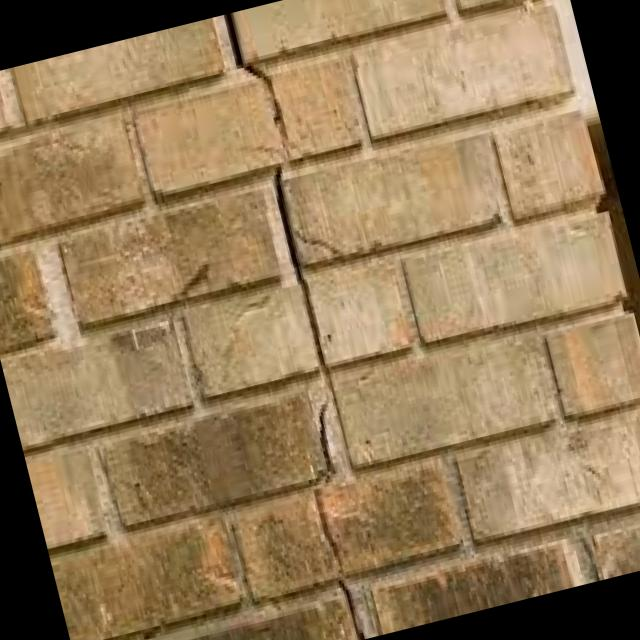crack: (194, 5, 418, 640)
